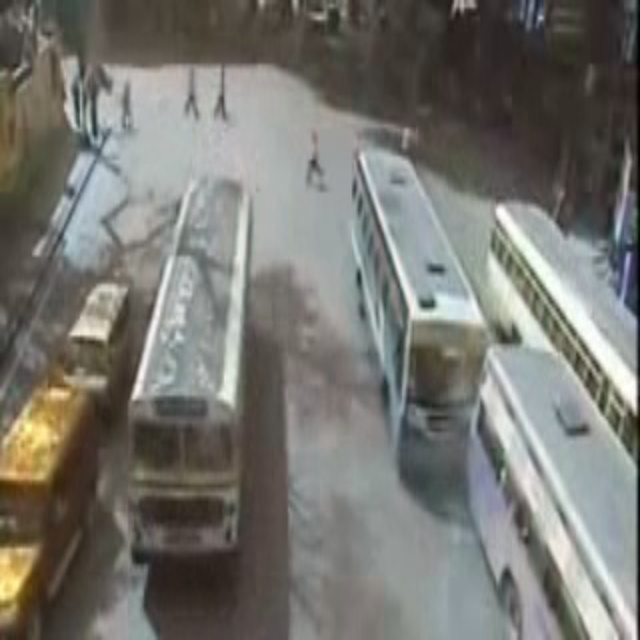acc: (361, 301, 594, 526)
